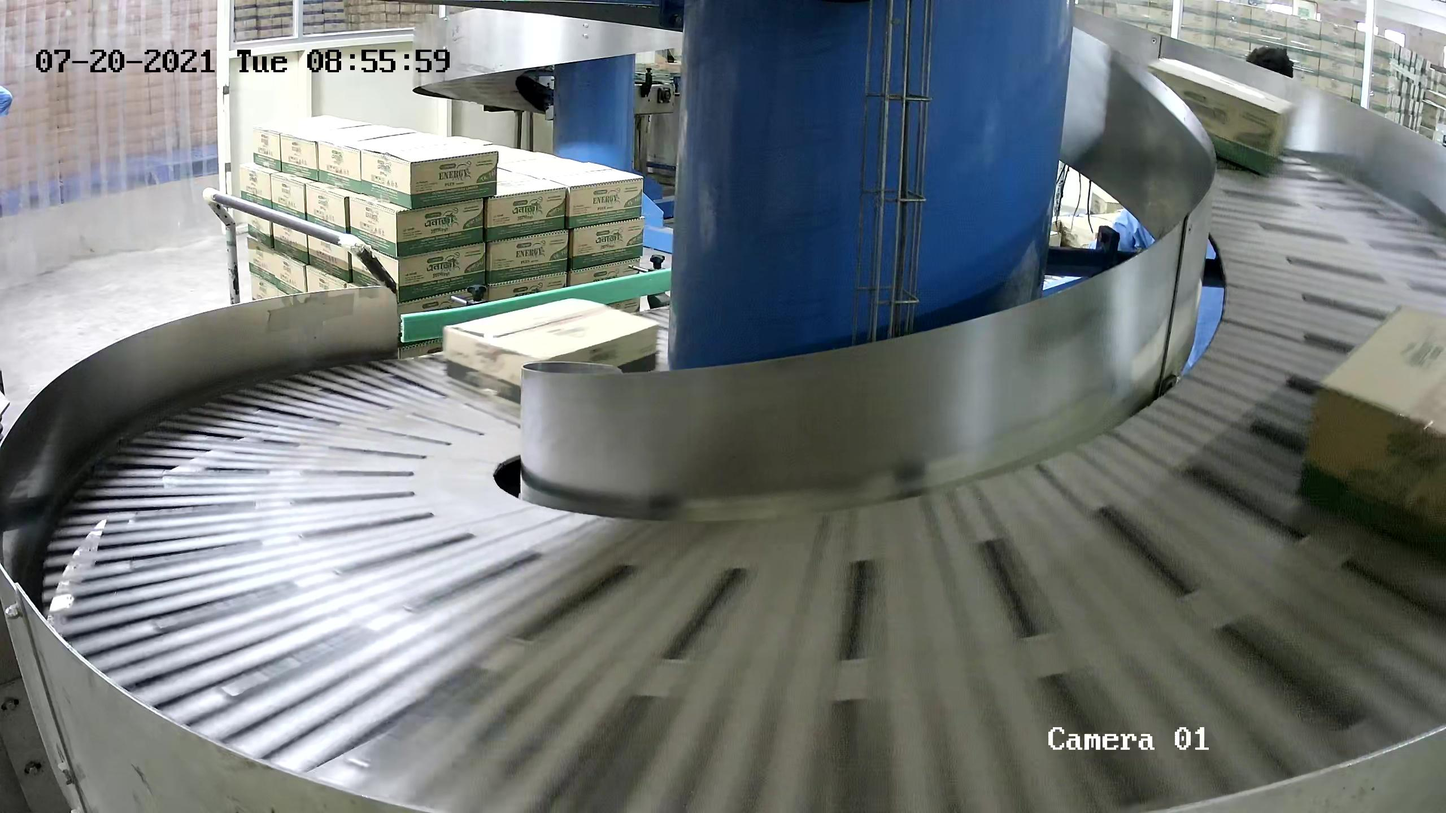Box: (1294, 302, 1446, 559), (445, 297, 659, 409), (1140, 57, 1298, 179)
